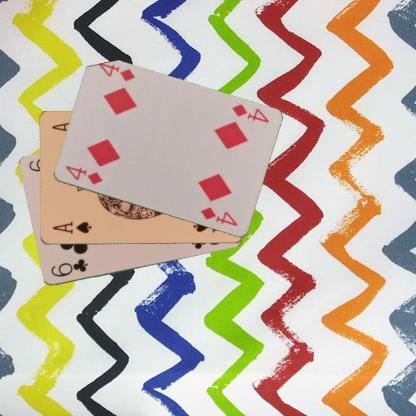4d: (63, 163, 104, 186), (229, 102, 270, 124)
6c: (48, 256, 89, 278)
As: (50, 219, 92, 236)
